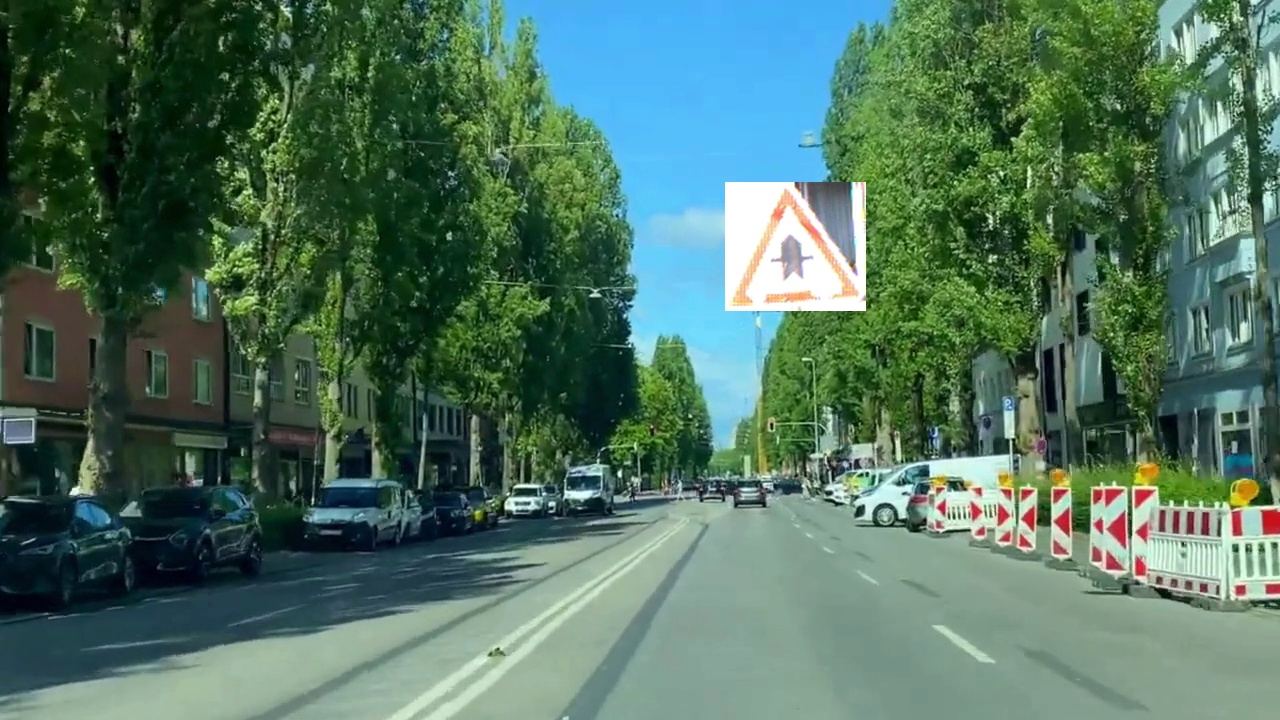Right-of-way: (725, 182, 866, 311)
